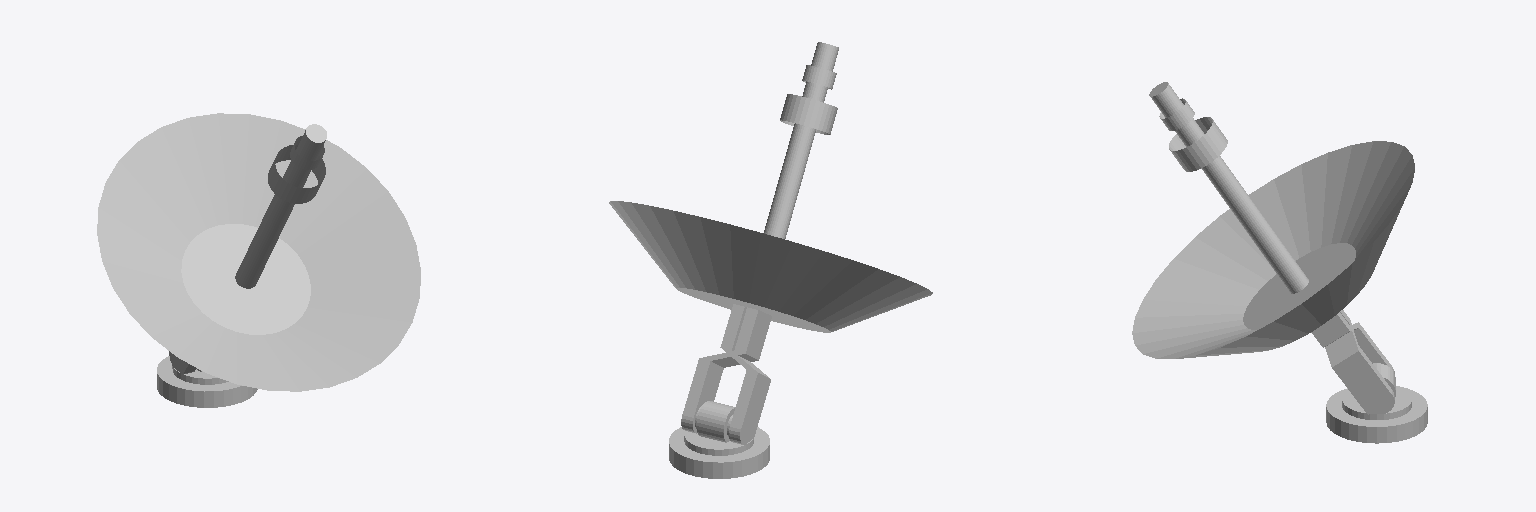
Rendered from dishv2.obj.
The picture shows the model from 3 angles: view 1: azimuth 30°, elevation 25°; view 2: azimuth 150°, elevation 25°; view 3: azimuth 270°, elevation 25°; orthographic projection.
Visible parts, largest first — view 1: Cylinder.011; view 2: Cylinder.011; view 3: Cylinder.011.
Boxes of the visible parts, <box> form: Cylinder.011: <box>97,113,420,407</box>; Cylinder.011: <box>609,42,932,478</box>; Cylinder.011: <box>1132,82,1427,443</box>.
Bounding box in the file's own units: 50.89 × 57.36 × 44.62.